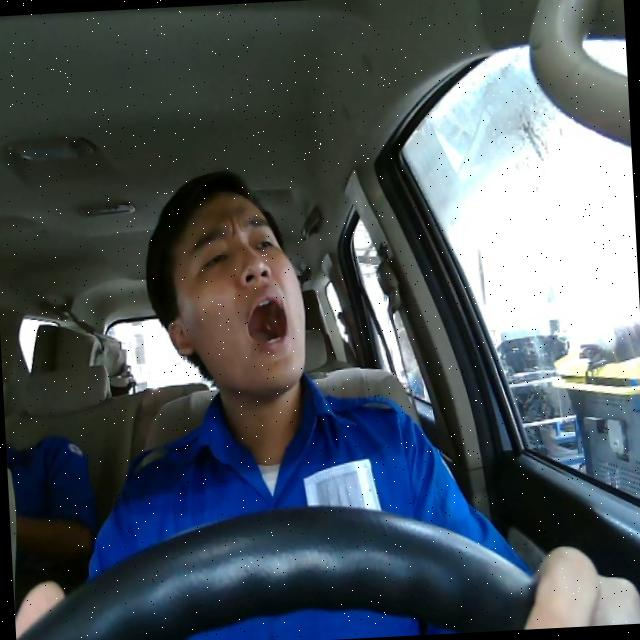yarning: (160, 186, 308, 398)
